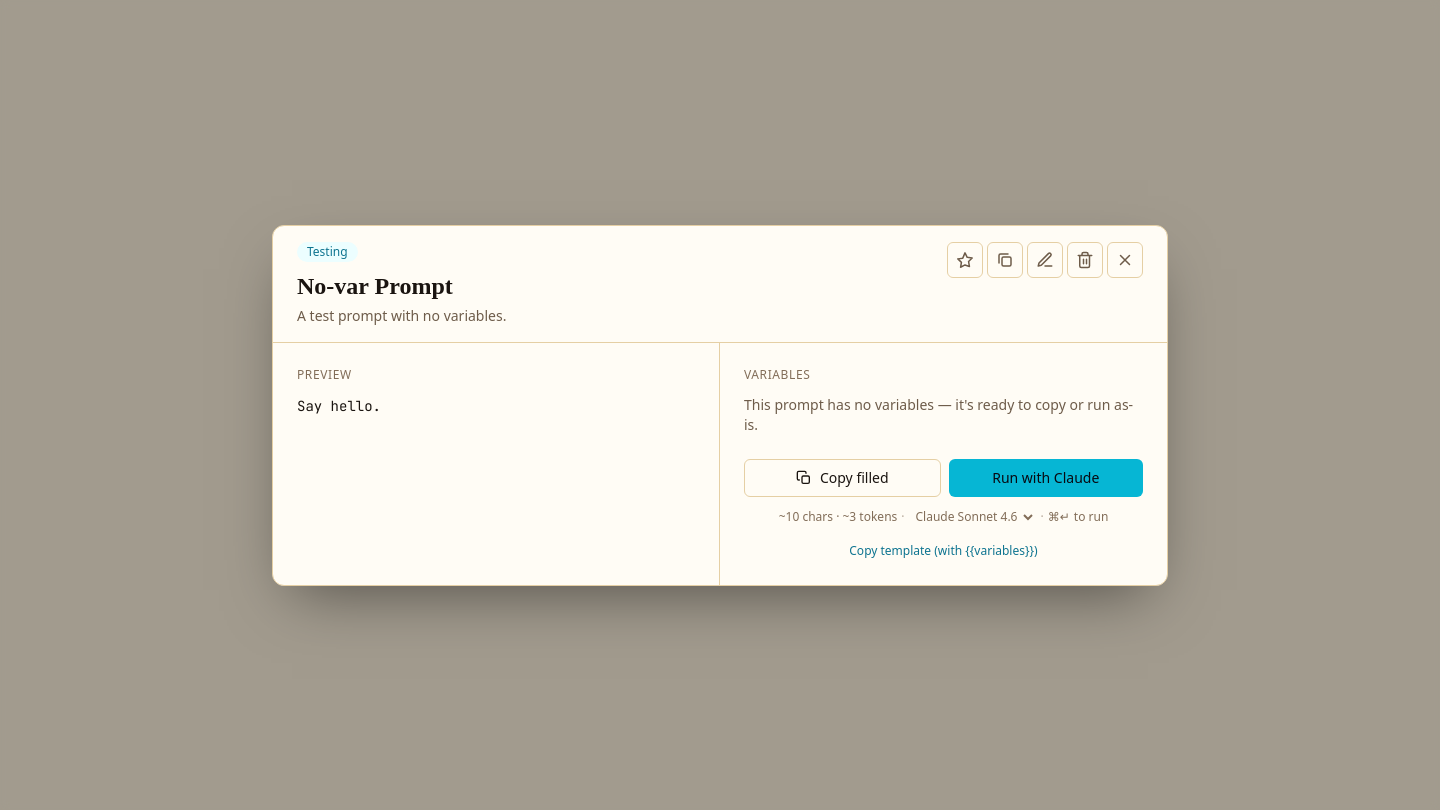
Scenario: PromptDetail — F3a: overloaded error Retry button › renders a Retry button when error kind is 'overloaded'
Click the button "Run with Claude" at (1046, 478), box [948,458,1143,496]
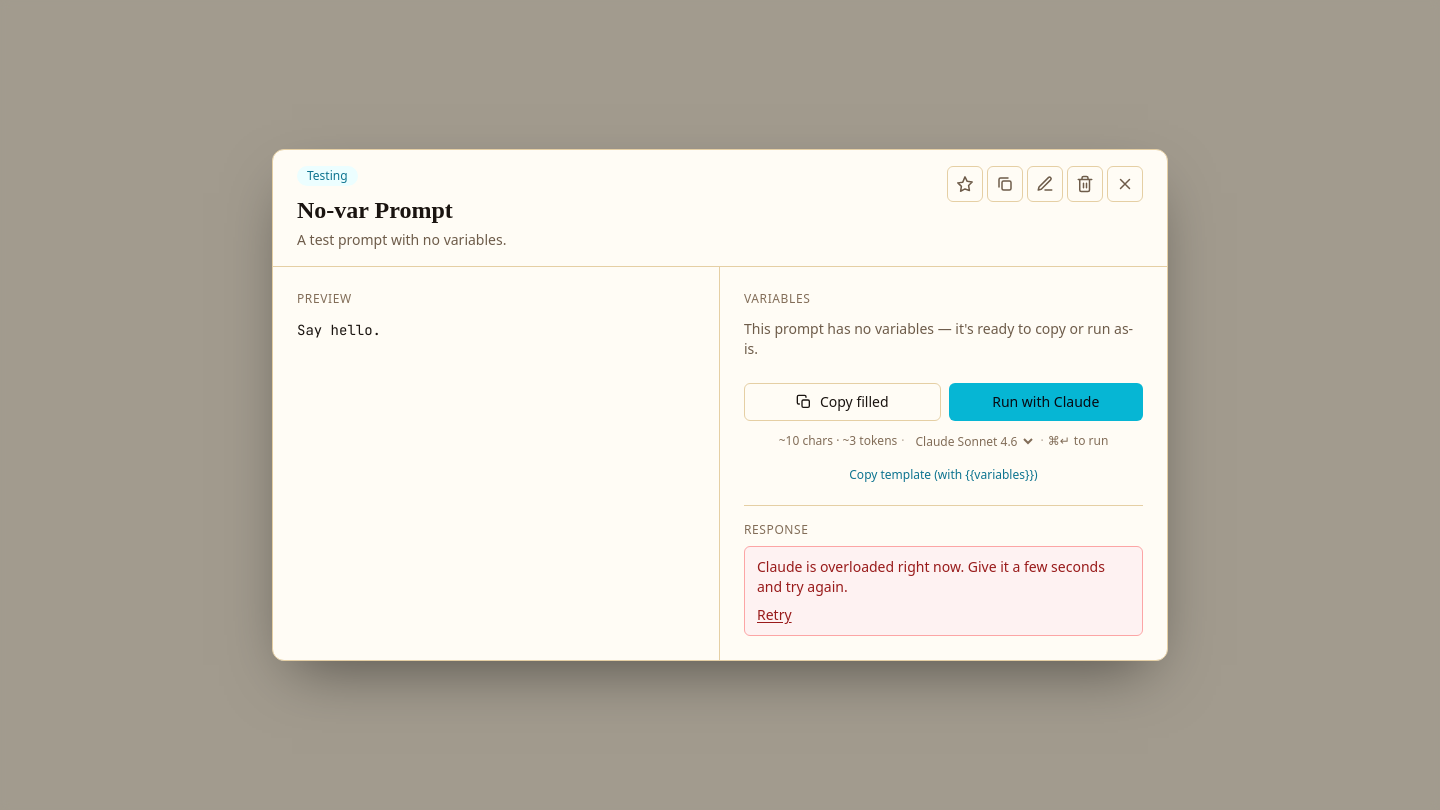
expect the text "Claude is overloaded right now. Give it a few seconds and try again." is shown: met, box [757,557,1130,597]
expect the button "Retry" is shown: met, box [757,605,792,625]
